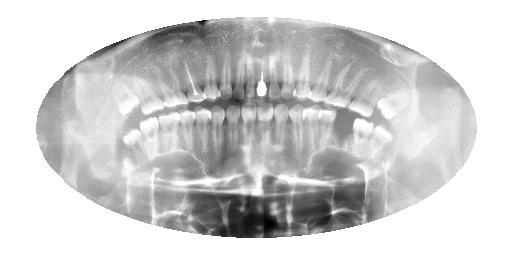i10healthy: (222, 101, 246, 154)
i11healthy: (207, 103, 228, 161)
i12healthy: (190, 102, 214, 156)
i13healthy: (178, 108, 198, 153)
i14healthy: (156, 111, 182, 153)
i15healthy: (139, 113, 162, 154)
i16healthy: (119, 124, 146, 160)
i1healthy: (367, 119, 395, 162)
i2healthy: (349, 113, 377, 158)
i3loss: (329, 107, 356, 157)
i4healthy: (314, 105, 336, 153)
i5healthy: (299, 102, 322, 151)
i6chipped: (286, 101, 305, 155)
i7healthy: (274, 99, 290, 149)
i8chipped: (255, 100, 277, 152)
i9healthy: (239, 100, 258, 153)
u10healthy: (231, 45, 248, 101)
u11healthy: (216, 46, 234, 101)
u12healthy: (198, 44, 223, 103)
u13healthy: (176, 53, 207, 105)
u14healthy: (150, 61, 190, 110)
u15healthy: (126, 73, 167, 117)
u16healthy: (104, 77, 143, 121)
u1healthy: (373, 80, 417, 122)
u2healthy: (345, 67, 382, 117)
u3healthy: (323, 57, 363, 111)
u4healthy: (308, 54, 338, 107)
u5healthy: (292, 46, 319, 102)
u6healthy: (278, 40, 296, 104)
u7healthy: (263, 47, 282, 102)
u8healthy: (252, 46, 269, 100)
u9healthy: (243, 47, 258, 101)
